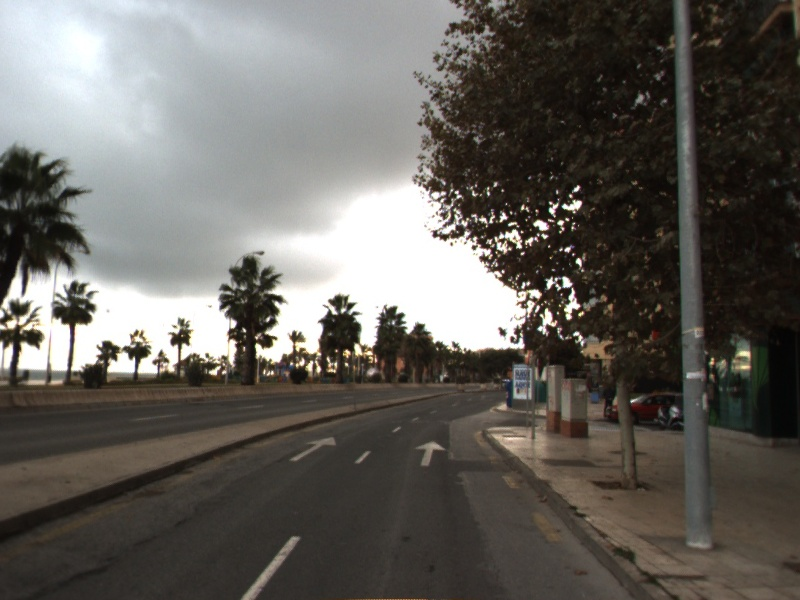STRAIGHT: (288, 435, 338, 462), (414, 439, 447, 467)
